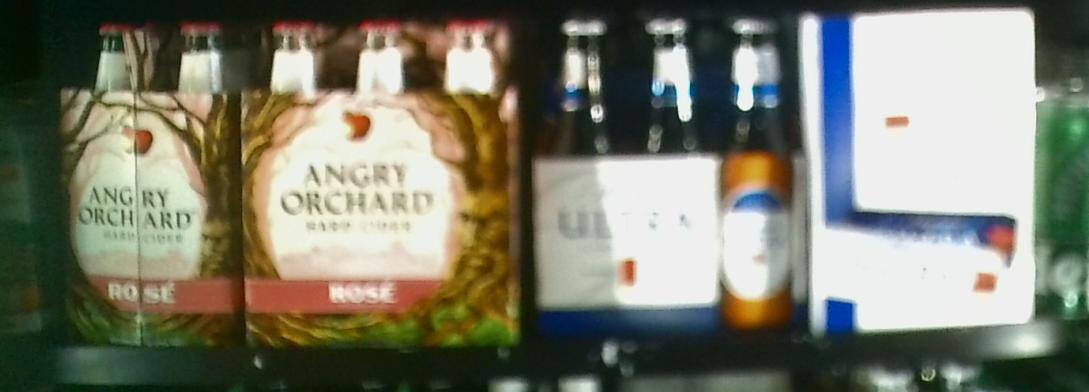bottle: (242, 18, 523, 345), (527, 19, 799, 328), (804, 8, 1035, 335), (56, 19, 243, 346)
